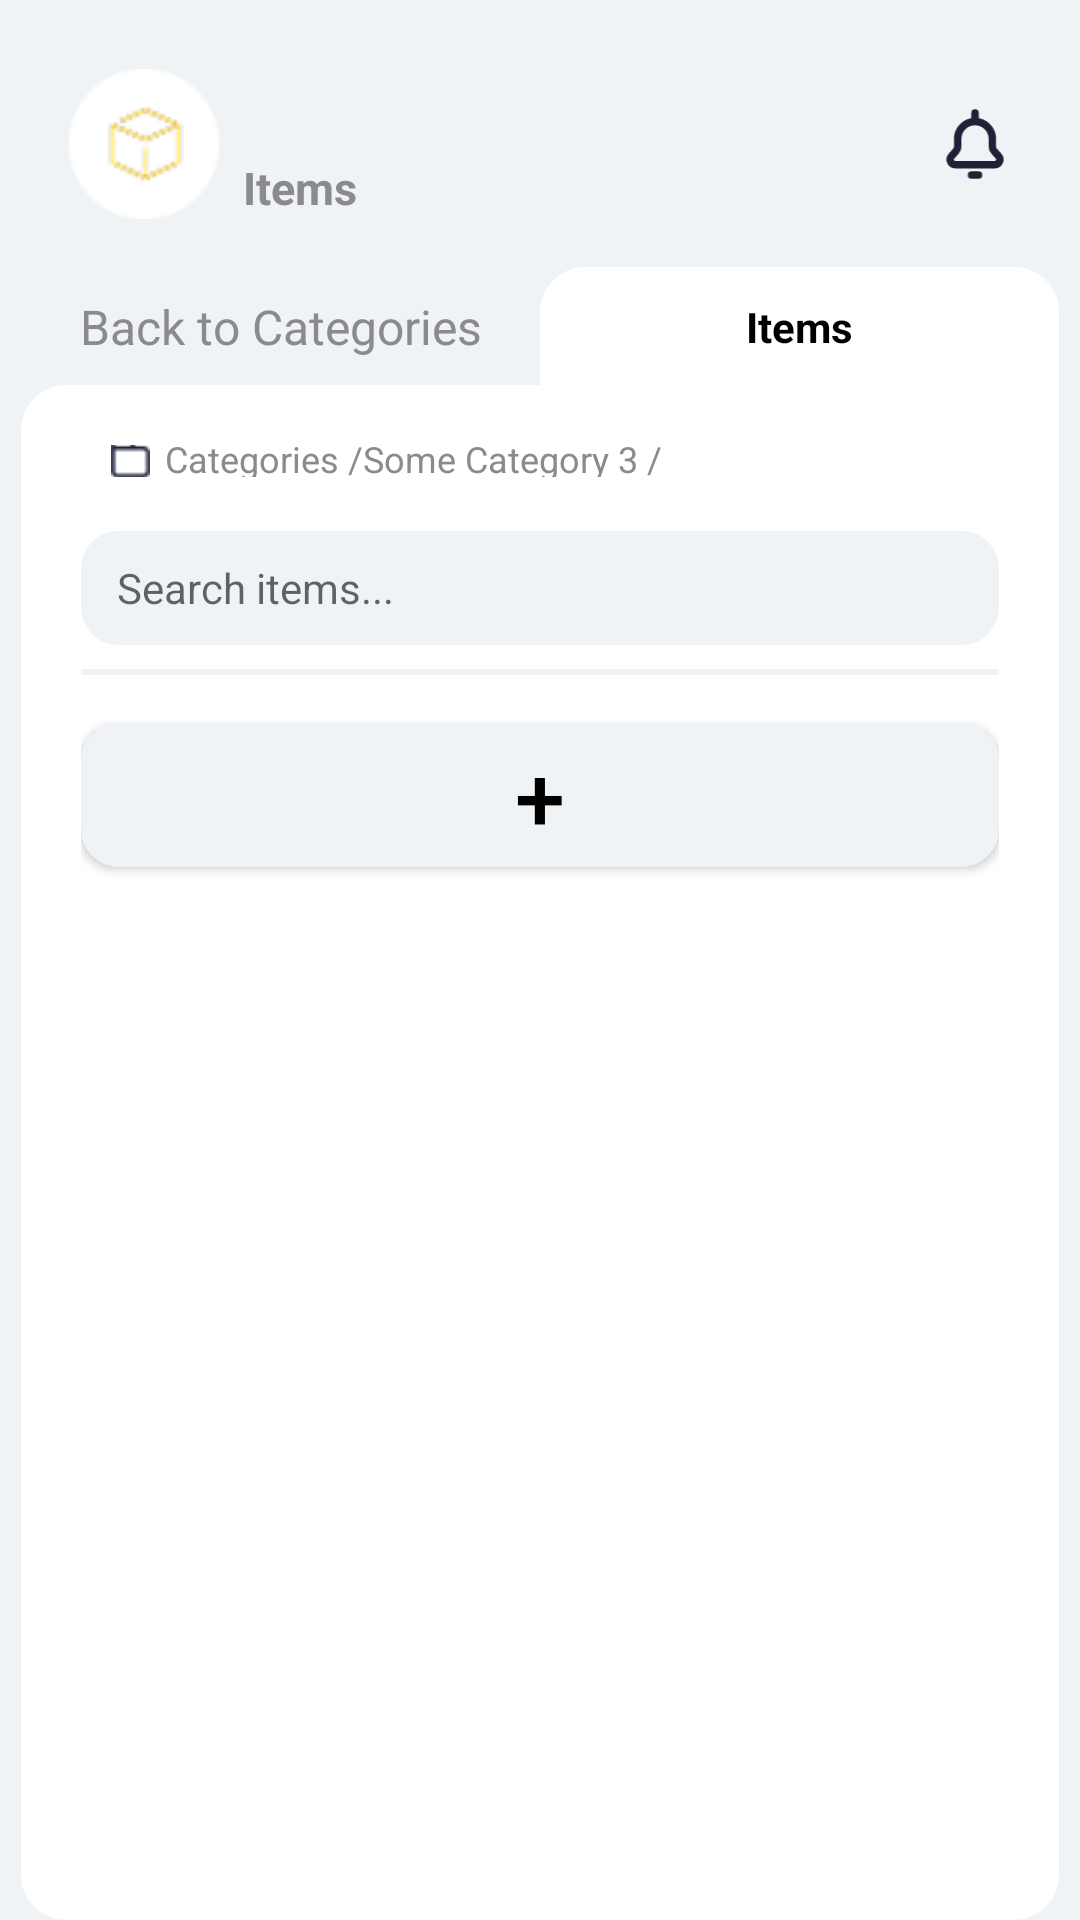

Screen size 1080x1920. Icon name, then its box in pixels as (x1, y1, x2, y2):
bell: (946, 109, 1004, 179)
